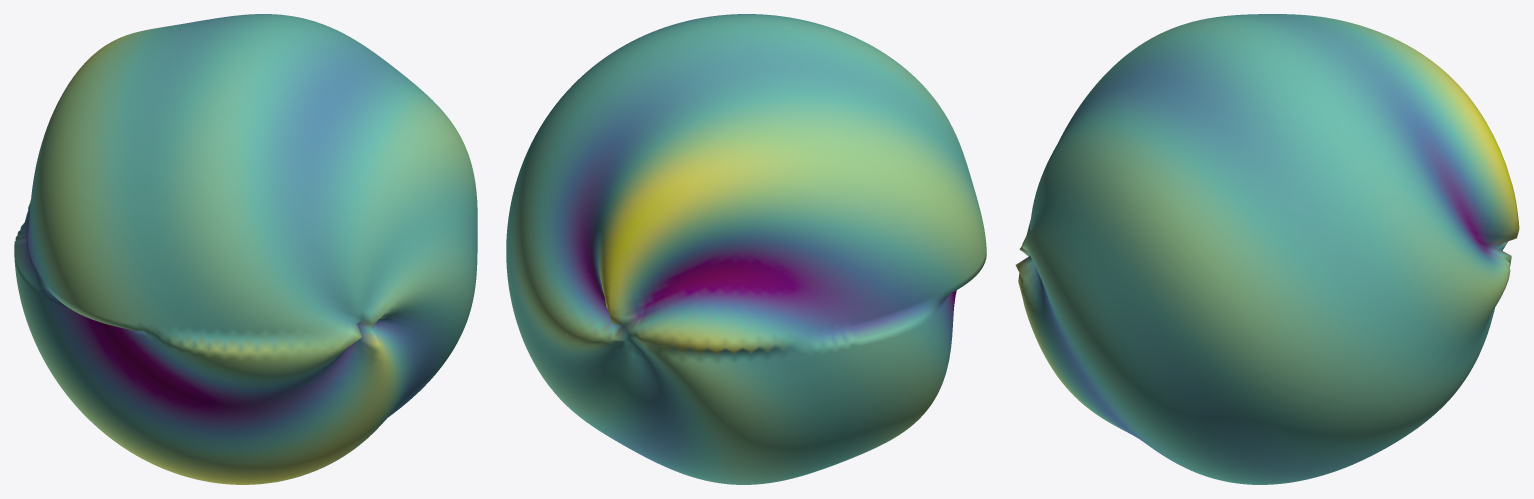
File: sphere_frame_0010.glb
3 views of the same model, side by side, from view 1: azimuth 30°, elevation 25°; view 2: azimuth 150°, elevation 25°; view 3: azimuth 270°, elevation 25° (orthographic). The views are drawn at different scales.
Parts seen in each view (by area): view 1: world; view 2: world; view 3: world.
Boxes of the visible parts, bbox=[...] form: world: bbox=[14, 14, 477, 484]; world: bbox=[506, 14, 986, 484]; world: bbox=[1015, 14, 1519, 484].
Size of the model in its own units: 2.18 by 2.15 by 2.29.
